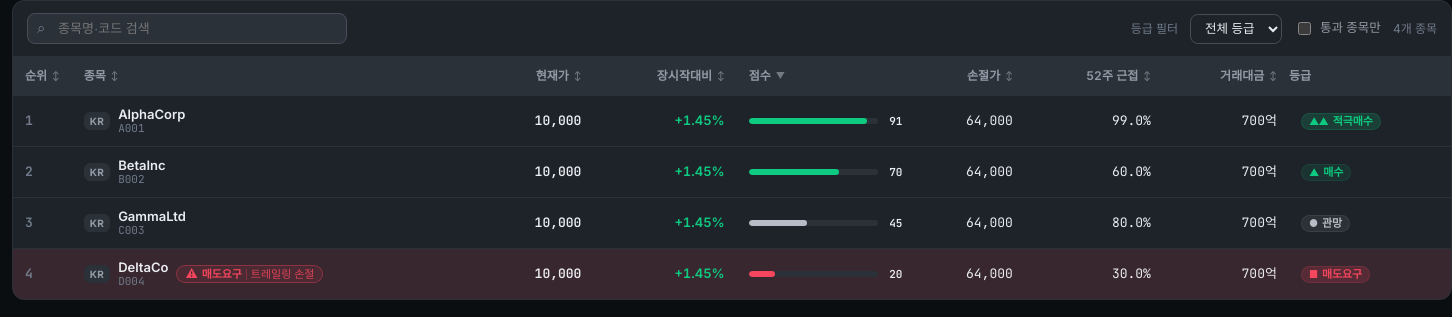
it: RankingTable › filters by free-text query over name and ticker
This screenshot has width=1452, height=317.
In the search field labelled "종목명·코드 검색": (187, 28) [27, 13, 347, 44], type "Beta"
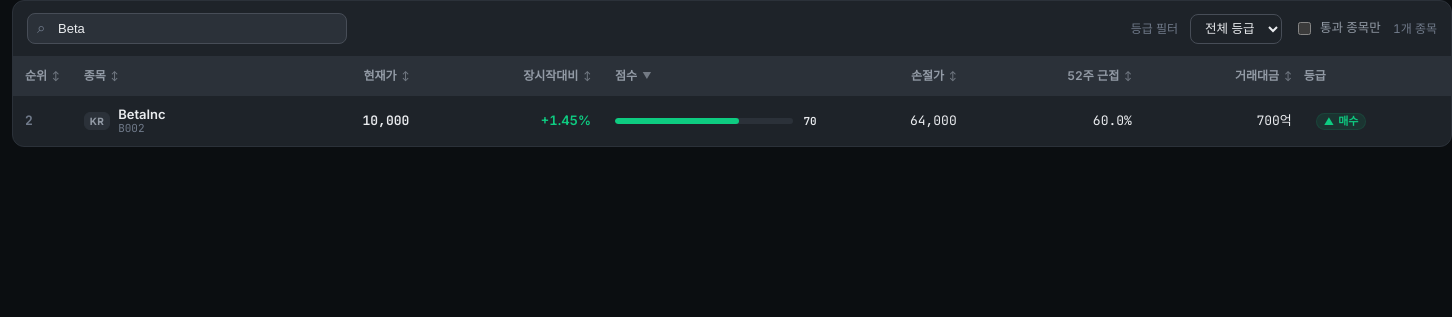
Expected: the text "BetaInc" is shown, [118, 106, 166, 122]
Expected: the button "AlphaCorp" is gone
Note: Ticker search also works.
Replace the text in the search field named "종목명·코드 검색" with "C003": (187, 28) [27, 13, 347, 44]
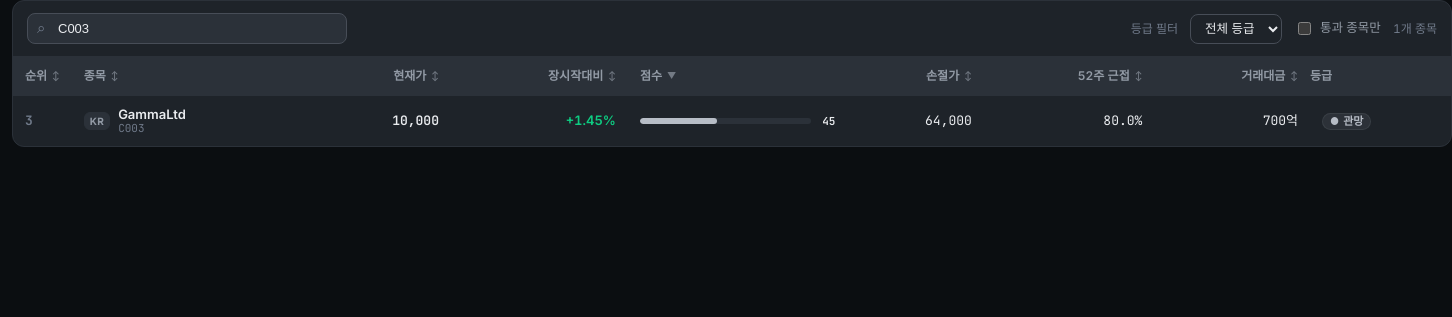
Expected: the text "GammaLtd" is shown, [118, 106, 186, 122]
Expected: the button "BetaInc" is gone
